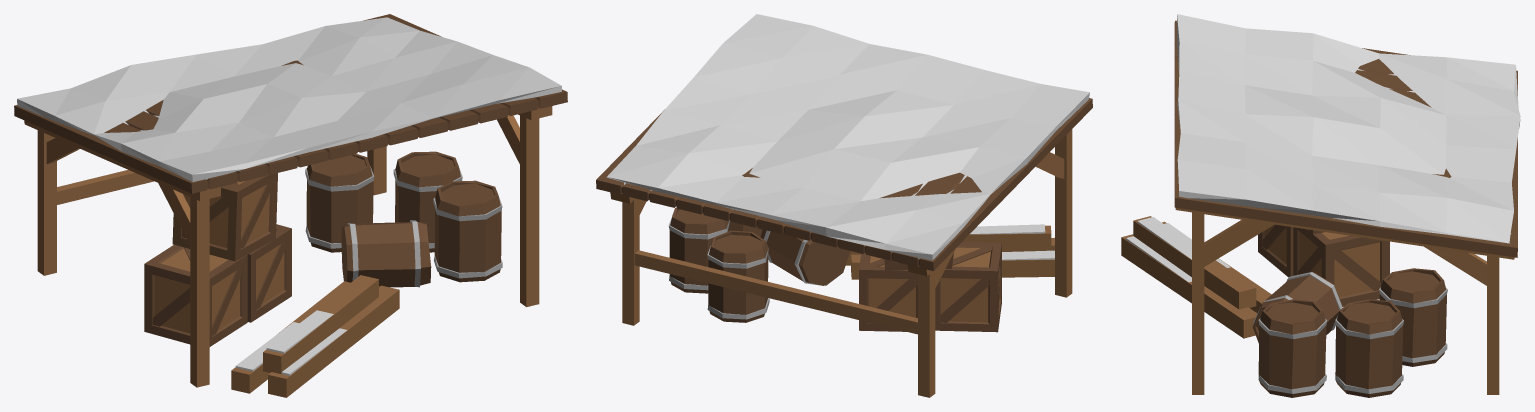
Rendered from Warehouse_2_lvl_snow_mat.fbx.
3 views of the same model, side by side, from view 1: azimuth 30°, elevation 25°; view 2: azimuth 150°, elevation 25°; view 3: azimuth 270°, elevation 25° (orthographic). The views are drawn at different scales.
Parts seen in each view (by area): view 1: Warehouse_2_lvl_snow_mat; view 2: Warehouse_2_lvl_snow_mat; view 3: Warehouse_2_lvl_snow_mat.
Part boxes in pixels (x1,y1,x2,y2): Warehouse_2_lvl_snow_mat: (14, 14, 567, 397); Warehouse_2_lvl_snow_mat: (596, 14, 1092, 397); Warehouse_2_lvl_snow_mat: (1121, 14, 1520, 397).
Size of the model in its own units: 3.62 by 2.04 by 3.45.
